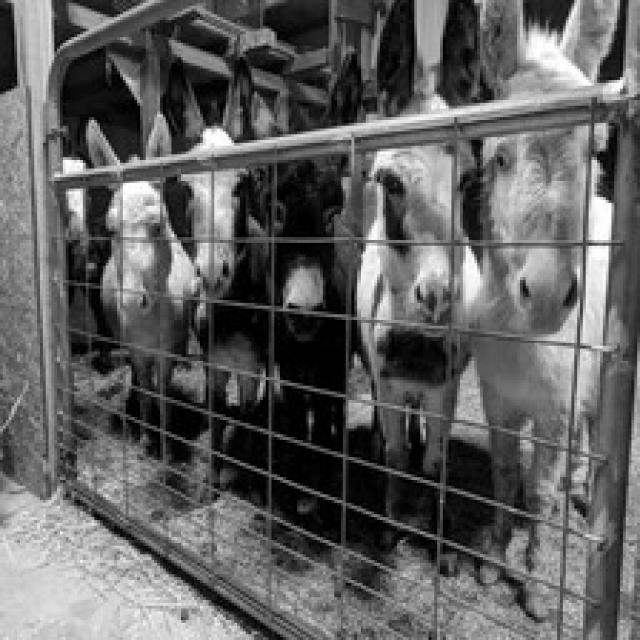Donkey: (469, 0, 637, 620), (351, 0, 486, 569), (83, 109, 197, 460)
